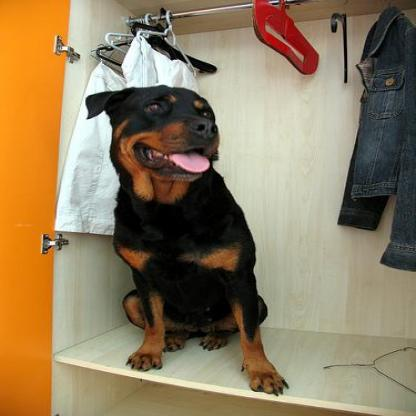Rottweiler: (82, 82, 290, 396)
